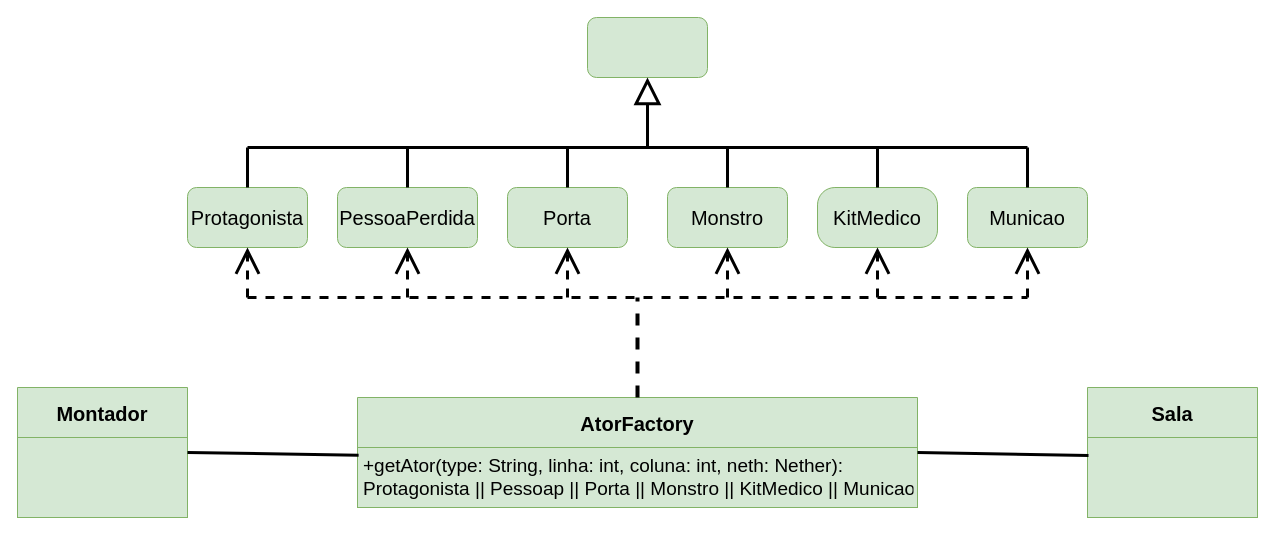
The diagram is 1275 pixels wide and 538 high, and some of its shapes have lost their labels. Each missing label, with the centre of its shape:
Ator: the point at 647,47
Monstro: Ator KitMedico: Ator Municao: Ator: the point at 1172,477
Prot: Ator Pessoap: Ator Porta: Ator: the point at 102,477
